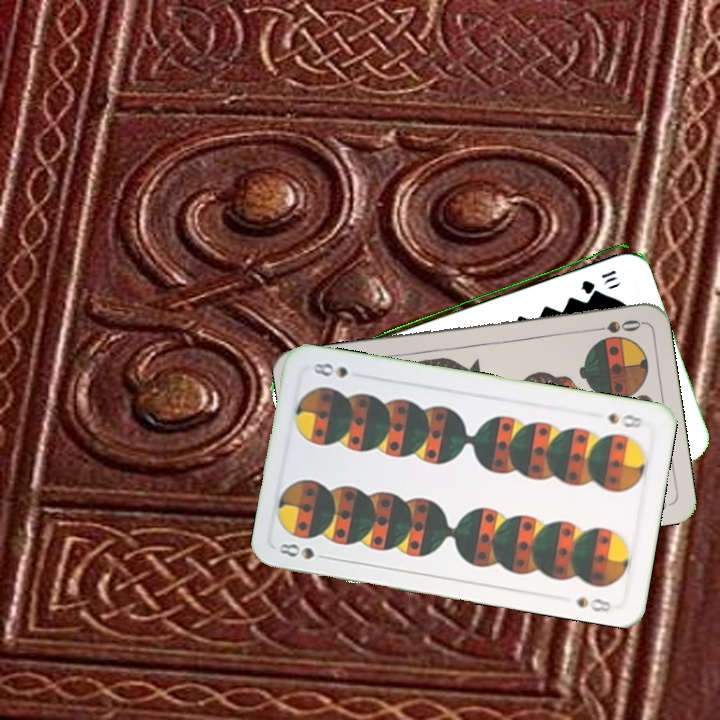G10: (577, 266, 620, 293)
S8: (275, 539, 317, 562), (604, 409, 646, 431)
SO: (585, 315, 644, 336)
